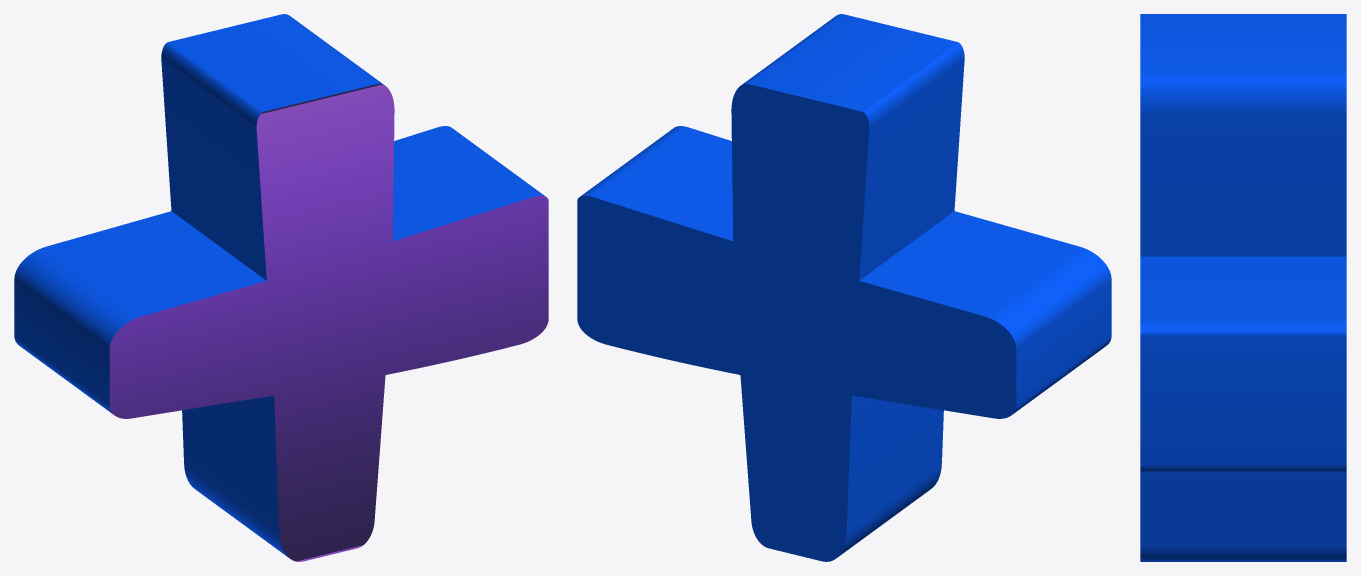
File: Plus.FBX
3 renders of one model, left to right at view 1: azimuth 30°, elevation 25°; view 2: azimuth 150°, elevation 25°; view 3: azimuth 270°, elevation 25°, orthographic. The views are drawn at different scales.
Parts seen in each view (by area): view 1: Plus; view 2: Plus; view 3: Plus.
Boxes of the visible parts, left/top/right/bottom form: Plus: left=14, top=14, right=548, bottom=561; Plus: left=577, top=14, right=1111, bottom=561; Plus: left=1140, top=14, right=1346, bottom=561.
Size of the model in its own units: 52.88 by 52.88 by 19.88.
Materials: 2 (1 with a texture image).
